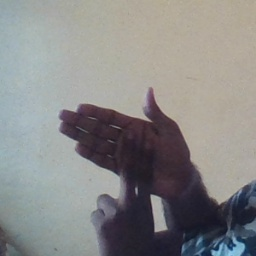N: (54, 83, 175, 236)
